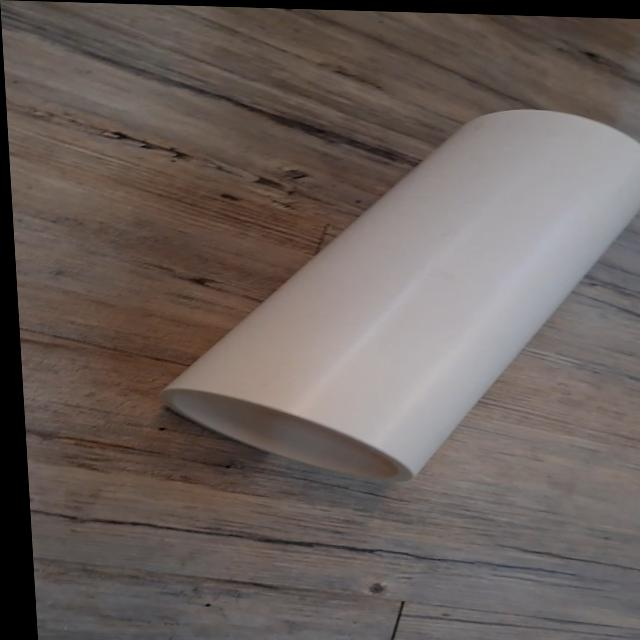CORAL: (141, 80, 640, 505)
